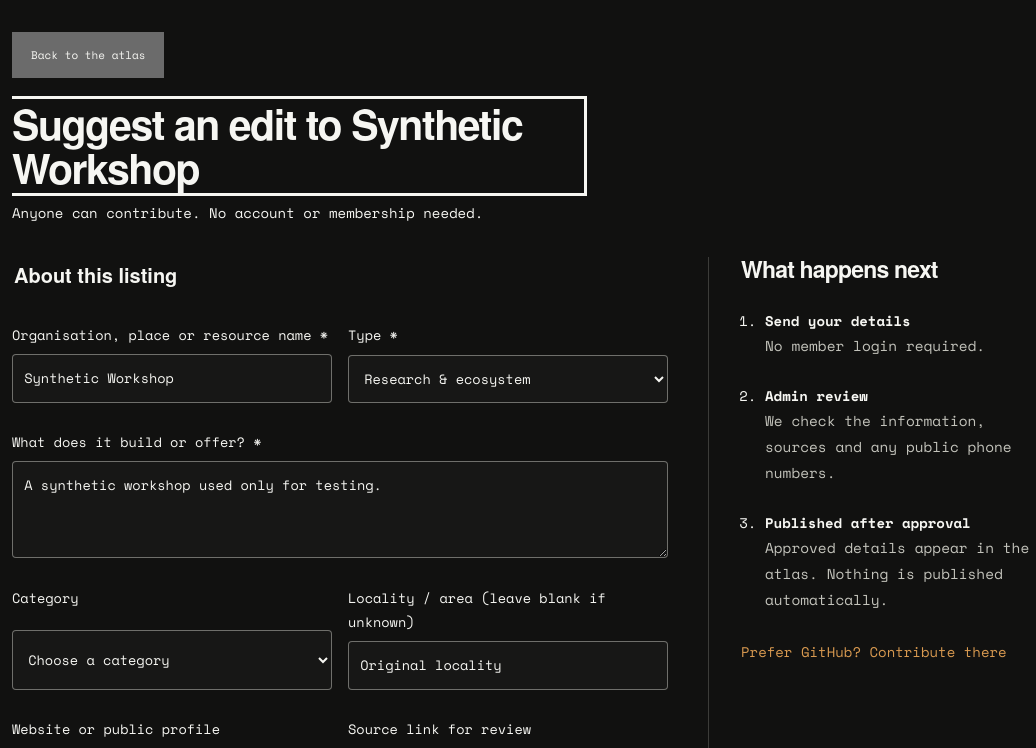
Test: retains a pin only when the locality is unchanged (changed=true)
Expected: the field labelled "Organisation, place or resource name *" is shown, [12,354,332,402]
Replace the text in the field labelled "Locality / area (leave blank if unknown)" with "New unconfirmed locality": [508, 665] box [348,641,668,690]
(page scrolled)
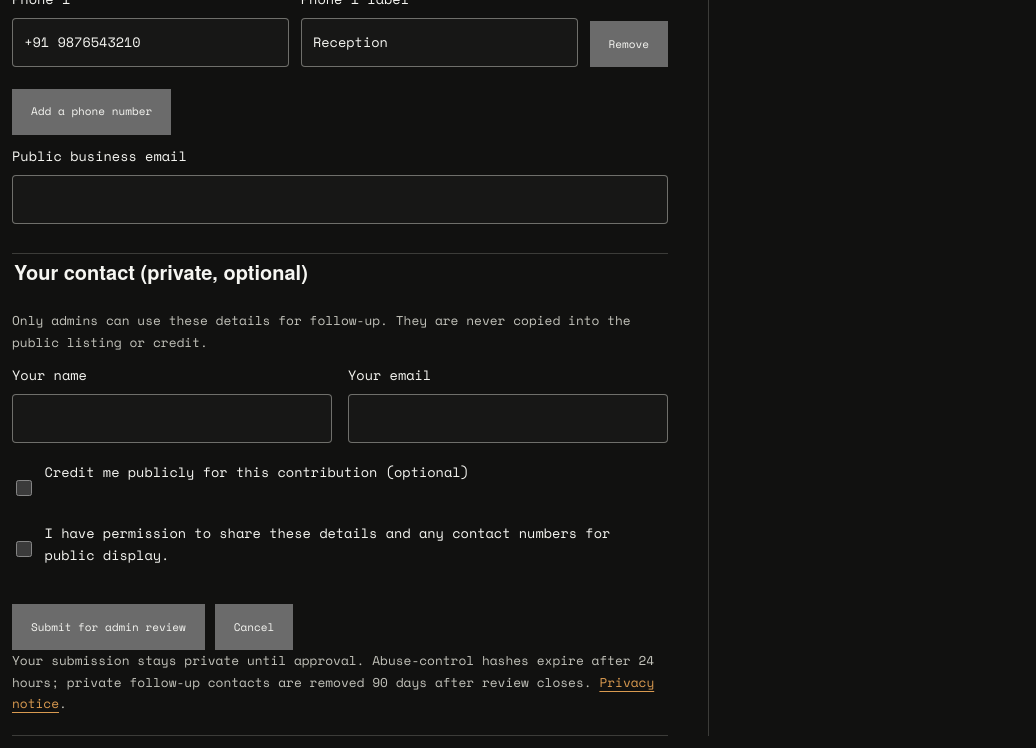
Click the checkbox labelled "I have permission": [24, 549] box [16,527,32,571]
(page scrolled)
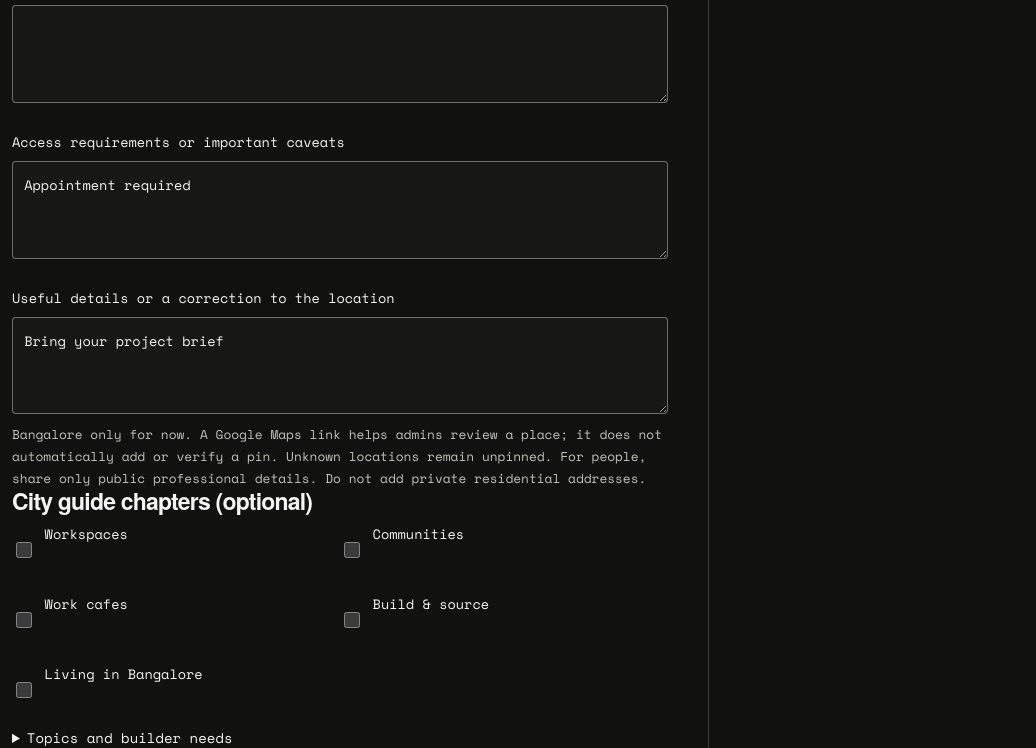
Submit the form named "Submit for admin review"
(page scrolled)
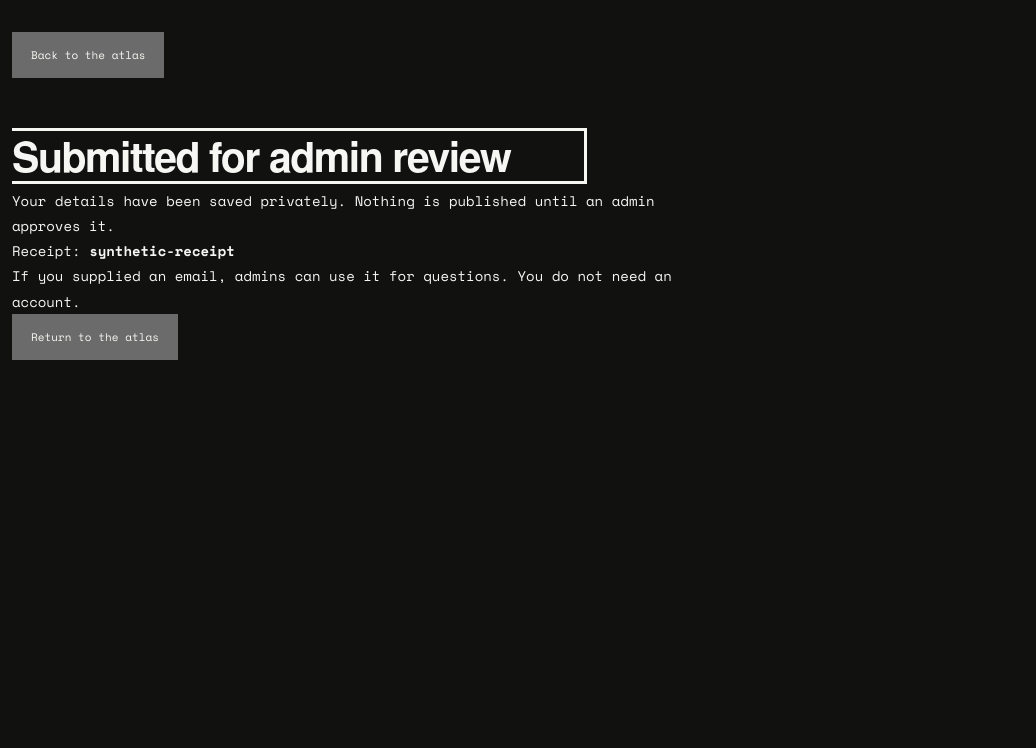
Now the text "synthetic-receipt" is shown, box [89,240,235,261]
